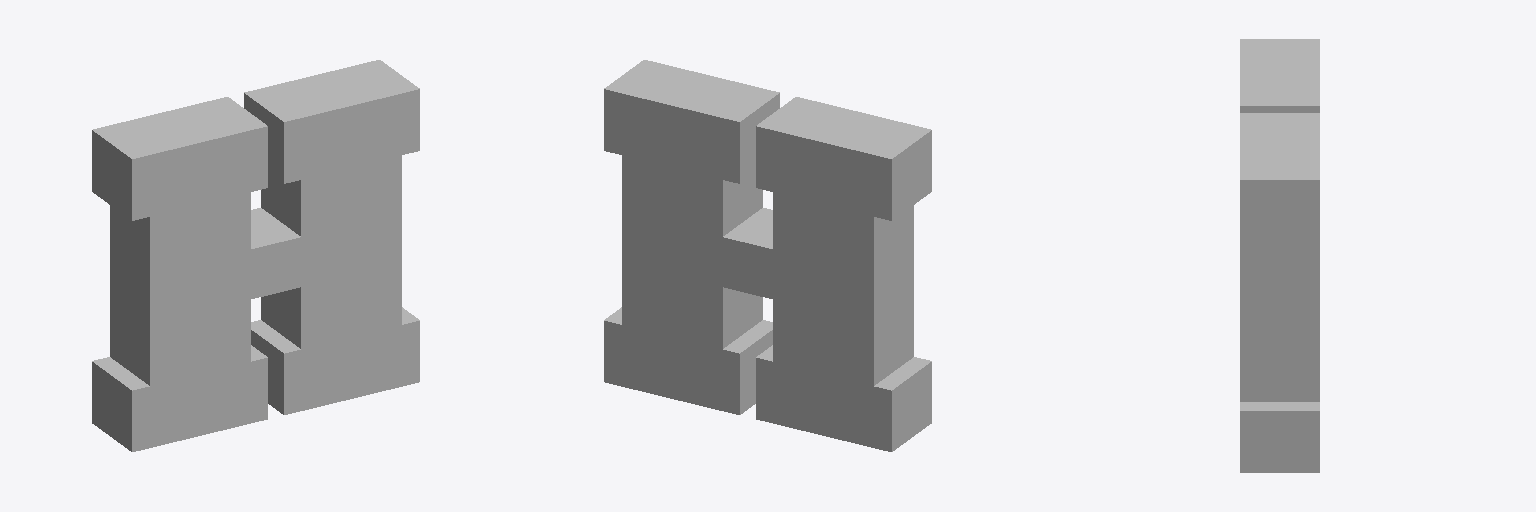
3 views of the same model, side by side, from view 1: azimuth 30°, elevation 25°; view 2: azimuth 150°, elevation 25°; view 3: azimuth 270°, elevation 25° (orthographic).
Visible parts, largest first — view 1: text: ABCDEFGHIJKLMNOPQRSTUVWXYZ[number redacted]; view 2: text: ABCDEFGHIJKLMNOPQRSTUVWXYZ[number redacted]; view 3: text: ABCDEFGHIJKLMNOPQRSTUVWXYZ[number redacted].
Boxes of the visible parts, box(x1,y1,x2,y2) form: text: ABCDEFGHIJKLMNOPQRSTUVWXYZ[number redacted]: box(92, 60, 419, 451); text: ABCDEFGHIJKLMNOPQRSTUVWXYZ[number redacted]: box(604, 60, 931, 451); text: ABCDEFGHIJKLMNOPQRSTUVWXYZ[number redacted]: box(1240, 39, 1319, 472).
Bounding box in the file's own units: 103 × 100 × 25.